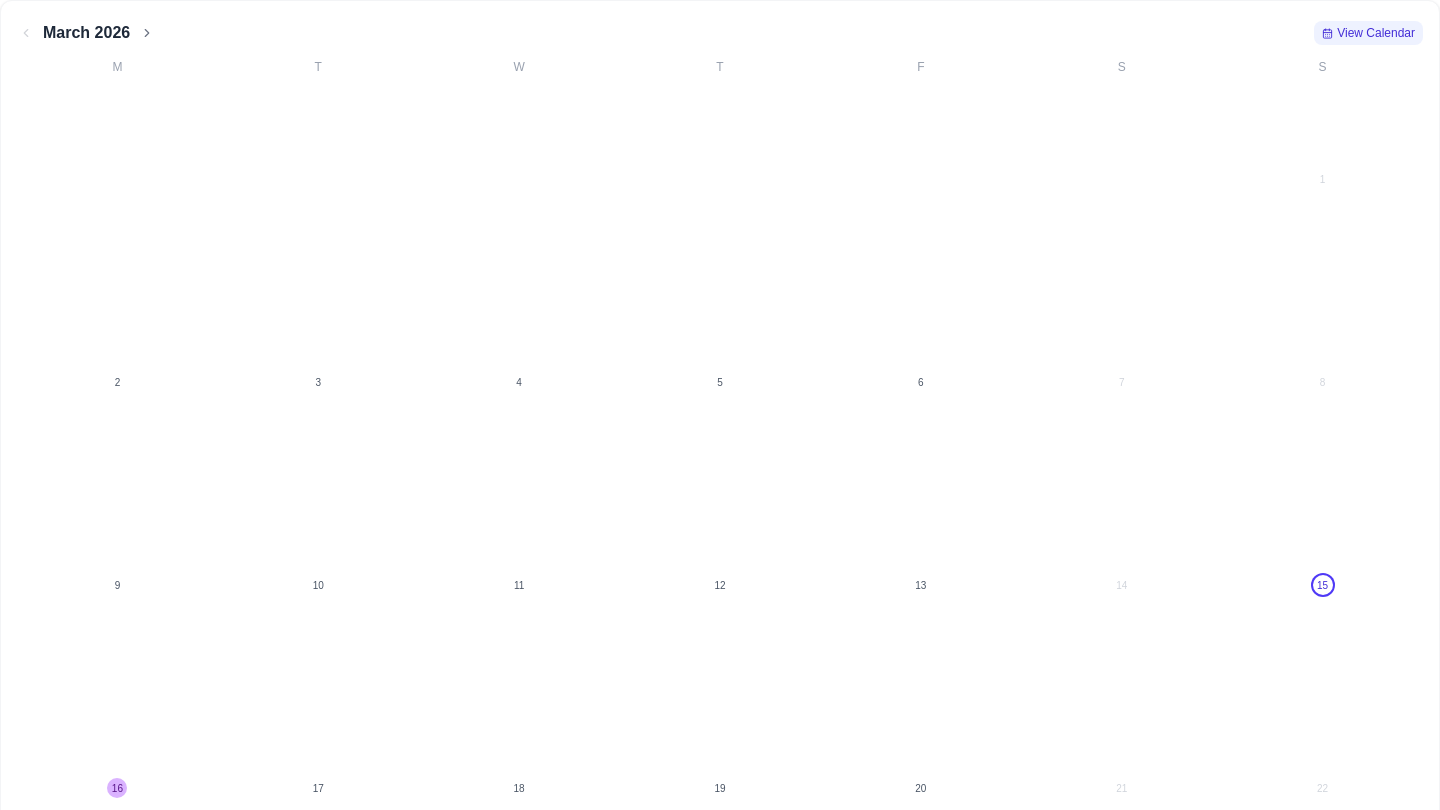
it: MiniCalendar — bank holidays › shows a popover with the bank holiday name when clicked
The image size is (1440, 810).
Step 1. Click the text with test id "bank-holiday-dot" → (117, 788), box x1=107 y1=778 x2=127 y2=798
(page scrolled)
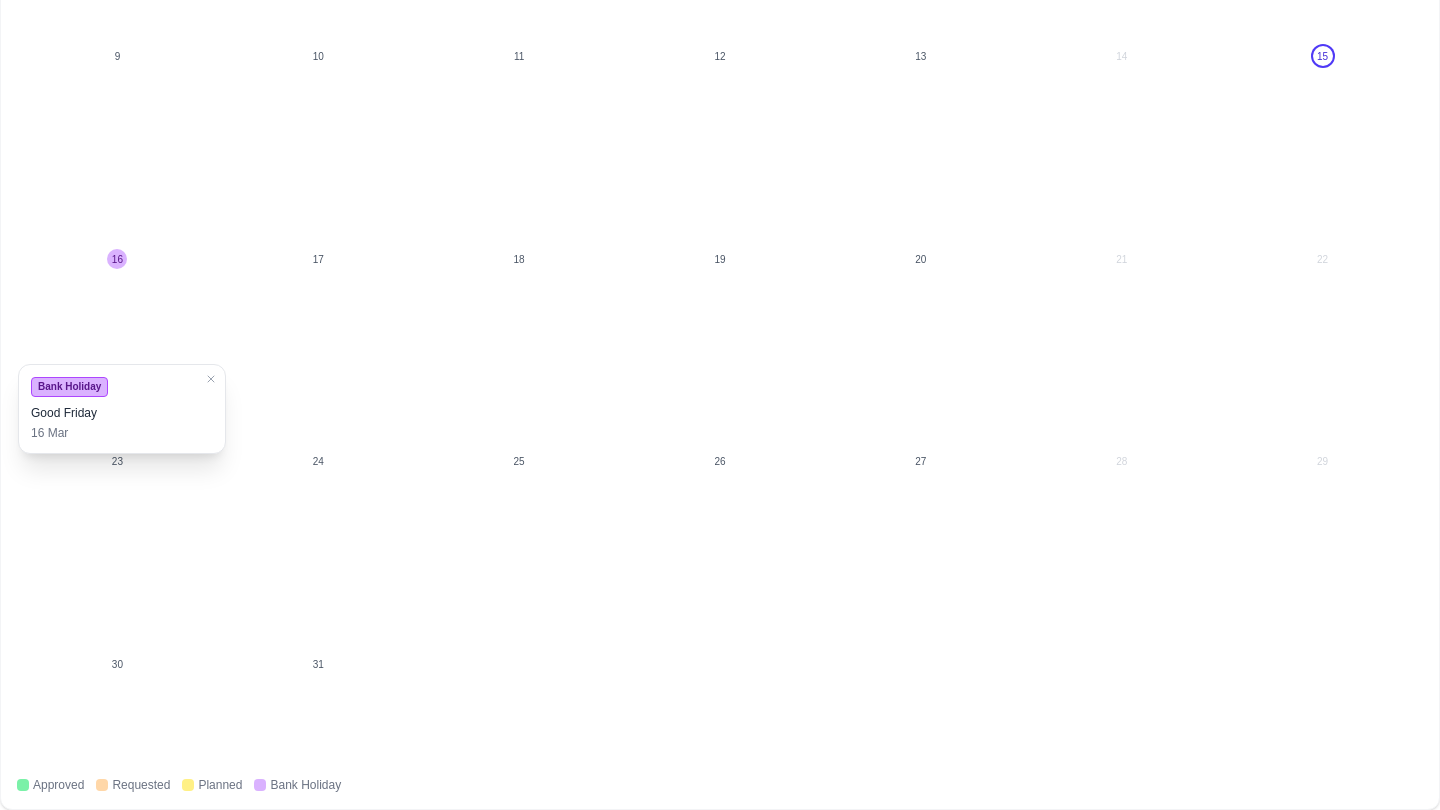
Now the tooltip "Bank Holiday Good Friday 16 Mar" is shown, box x1=18 y1=364 x2=226 y2=454
Now the tooltip shows "Good Friday", box x1=31 y1=406 x2=97 y2=420
